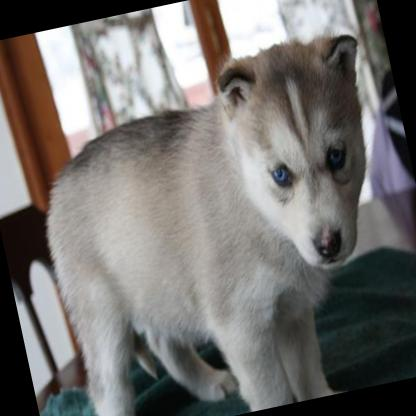Siberian_husky: (15, 24, 416, 416)
